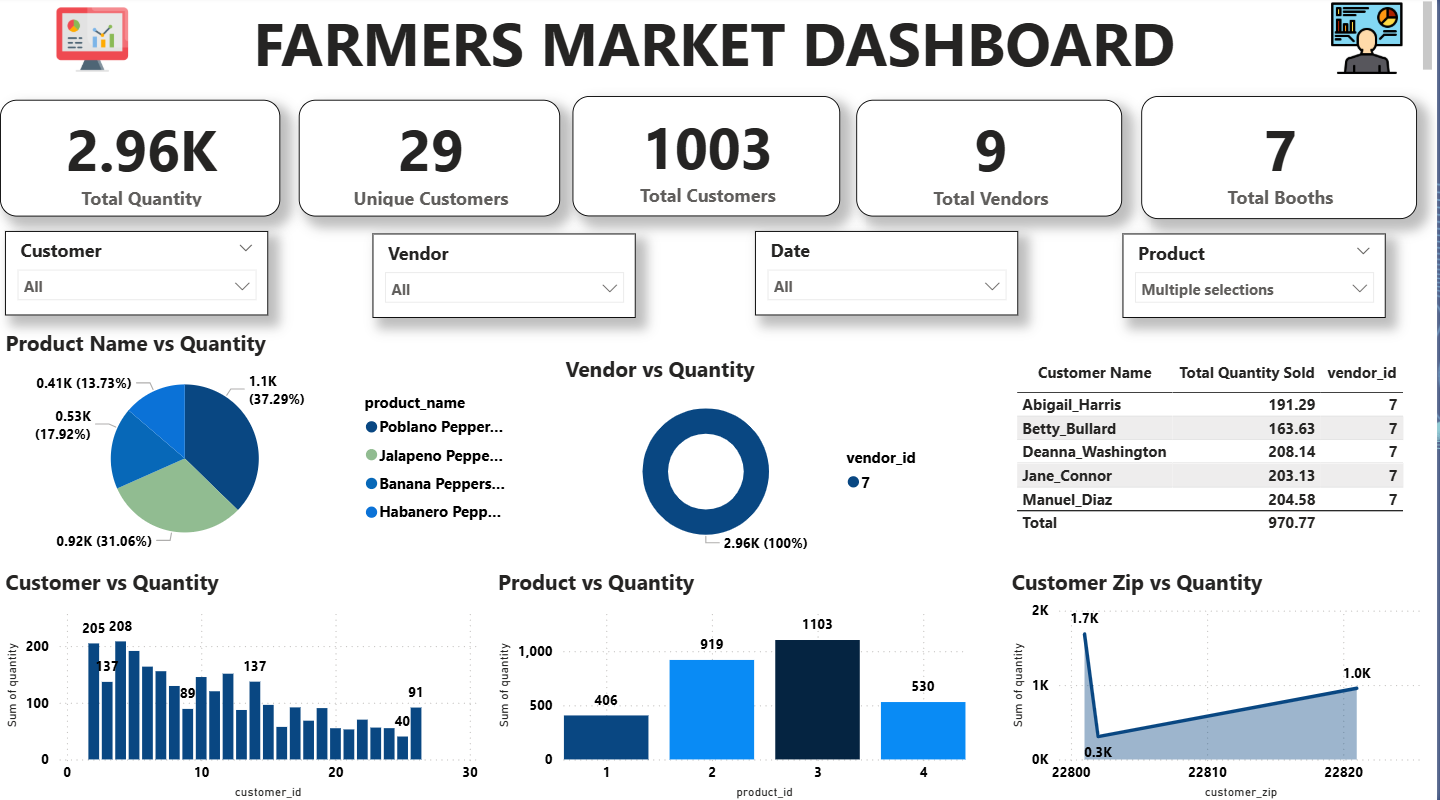

Layout of this report page (visuals, bound fields, positions):
{"tool":"powerbi","page":{"name":"Quantity wise Analysis","canvas":[1280,720],"ordinal":0},"visuals":[{"type":"columnChart","title":"Customer Vs Quantity","fields":{"Category":["customer_purchases.customer_id"],"Y":["customer_purchases.quantity"]},"box":[0,493.8,460,226.2],"z":0},{"type":"clusteredColumnChart","title":"Product Vs Quantity","fields":{"Y":["customer_purchases.quantity"],"Category":["product.product_id"]},"box":[459.8,494,448.8,226.2],"z":1000},{"type":"pieChart","title":"Product Name Vs Quantity","fields":{"Y":["customer_purchases.quantity"],"Category":["product.product_name"]},"box":[0,270,460,223.8],"z":2000},{"type":"donutChart","title":"Vendor Vs Quantity","fields":{"Y":["customer_purchases.quantity"],"Category":["customer_purchases.vendor_id"]},"box":[460,270,418.8,223.8],"z":3000},{"type":"textbox","box":[193.2,0,896.3,85.6],"z":4000},{"type":"image","box":[0,0,148,85.6],"z":5000},{"type":"image","box":[1131.1,0,149.2,85.6],"z":6000},{"type":"card","fields":{"Values":["customer_purchases.Total_Quantity"]},"box":[0,86.2,263.8,106.2],"z":7000},{"type":"card","fields":{"Values":["customer_purchases.customer_id"]},"box":[283.8,86.2,242.5,106.2],"z":8000},{"type":"card","fields":{"Values":["customer_purchases.customer_id"]},"box":[545,83.8,248.8,106.2],"z":9000},{"type":"card","fields":{"Values":["vendor.vendor_id"]},"box":[802.2,85.6,231.1,105.2],"z":10000},{"type":"card","fields":{"Values":["vendor_booth_assignments.booth_number"]},"box":[1055.3,85.6,225,105.2],"z":11000},{"type":"tableEx","fields":{"Values":["customer.Customer_Full_Name","customer_purchases.quantity"]},"box":[869.4,270.2,410.9,223.8],"z":12000},{"type":"areaChart","title":"Customer Zip Vs Quantity","fields":{"Category":["customer.customer_zip"],"Y":["customer_purchases.quantity"]},"box":[900,493.8,380,226.2],"z":13000},{"type":"slicer","fields":{"Values":["customer.customer_id"]},"box":[12.2,205.4,239.7,64.8],"z":14000},{"type":"slicer","fields":{"Values":["customer_purchases.vendor_id"]},"box":[333.8,205,252.5,65],"z":15000},{"type":"slicer","fields":{"Values":["customer_purchases.market_date"]},"box":[680,205,253.8,65],"z":16000},{"type":"slicer","fields":{"Values":["customer_purchases.product_id"]},"box":[1032.5,205,238.8,65],"z":17000}]}

Visuals, with their boxes in screenshot pixels (x1, y1, x2, y2), scaled from the page's 1280x720 canvas onto the 1440x800 screenshot:
"Customer Vs Quantity" columnChart: 0,549,518,799
"Product Vs Quantity" clusteredColumnChart: 517,549,1022,799
"Product Name Vs Quantity" pieChart: 0,300,518,549
"Vendor Vs Quantity" donutChart: 518,300,989,549
textbox: 217,0,1226,95
image: 0,0,166,95
image: 1272,0,1439,95
card - customer_purchases.Total_Quantity: 0,96,297,214
card - customer_purchases.customer_id: 319,96,592,214
card - customer_purchases.customer_id: 613,93,893,211
card - vendor.vendor_id: 902,95,1162,212
card - vendor_booth_assignments.booth_number: 1187,95,1439,212
tableEx - customer.Customer_Full_Name x customer_purchases.quantity: 978,300,1439,549
"Customer Zip Vs Quantity" areaChart: 1012,549,1439,799
slicer - customer.customer_id: 14,228,283,300
slicer - customer_purchases.vendor_id: 376,228,660,300
slicer - customer_purchases.market_date: 765,228,1051,300
slicer - customer_purchases.product_id: 1162,228,1430,300
